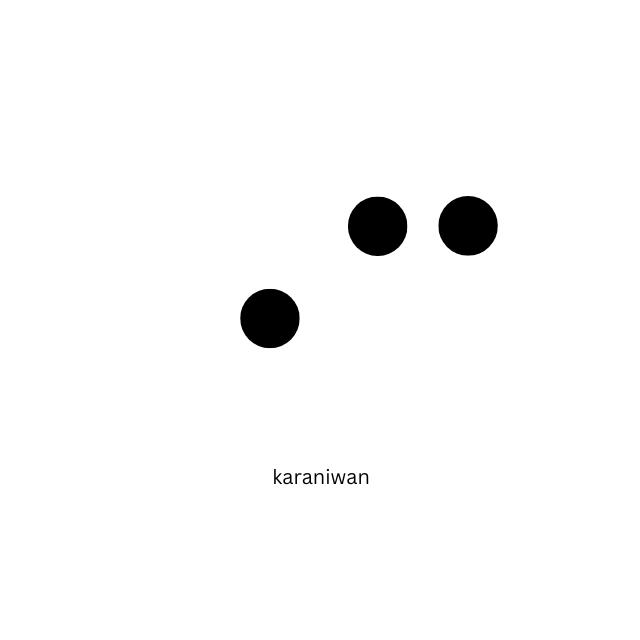dot_5: (149, 193, 304, 442)
two_cell_alphabet_karaniwan: (345, 193, 499, 442)
